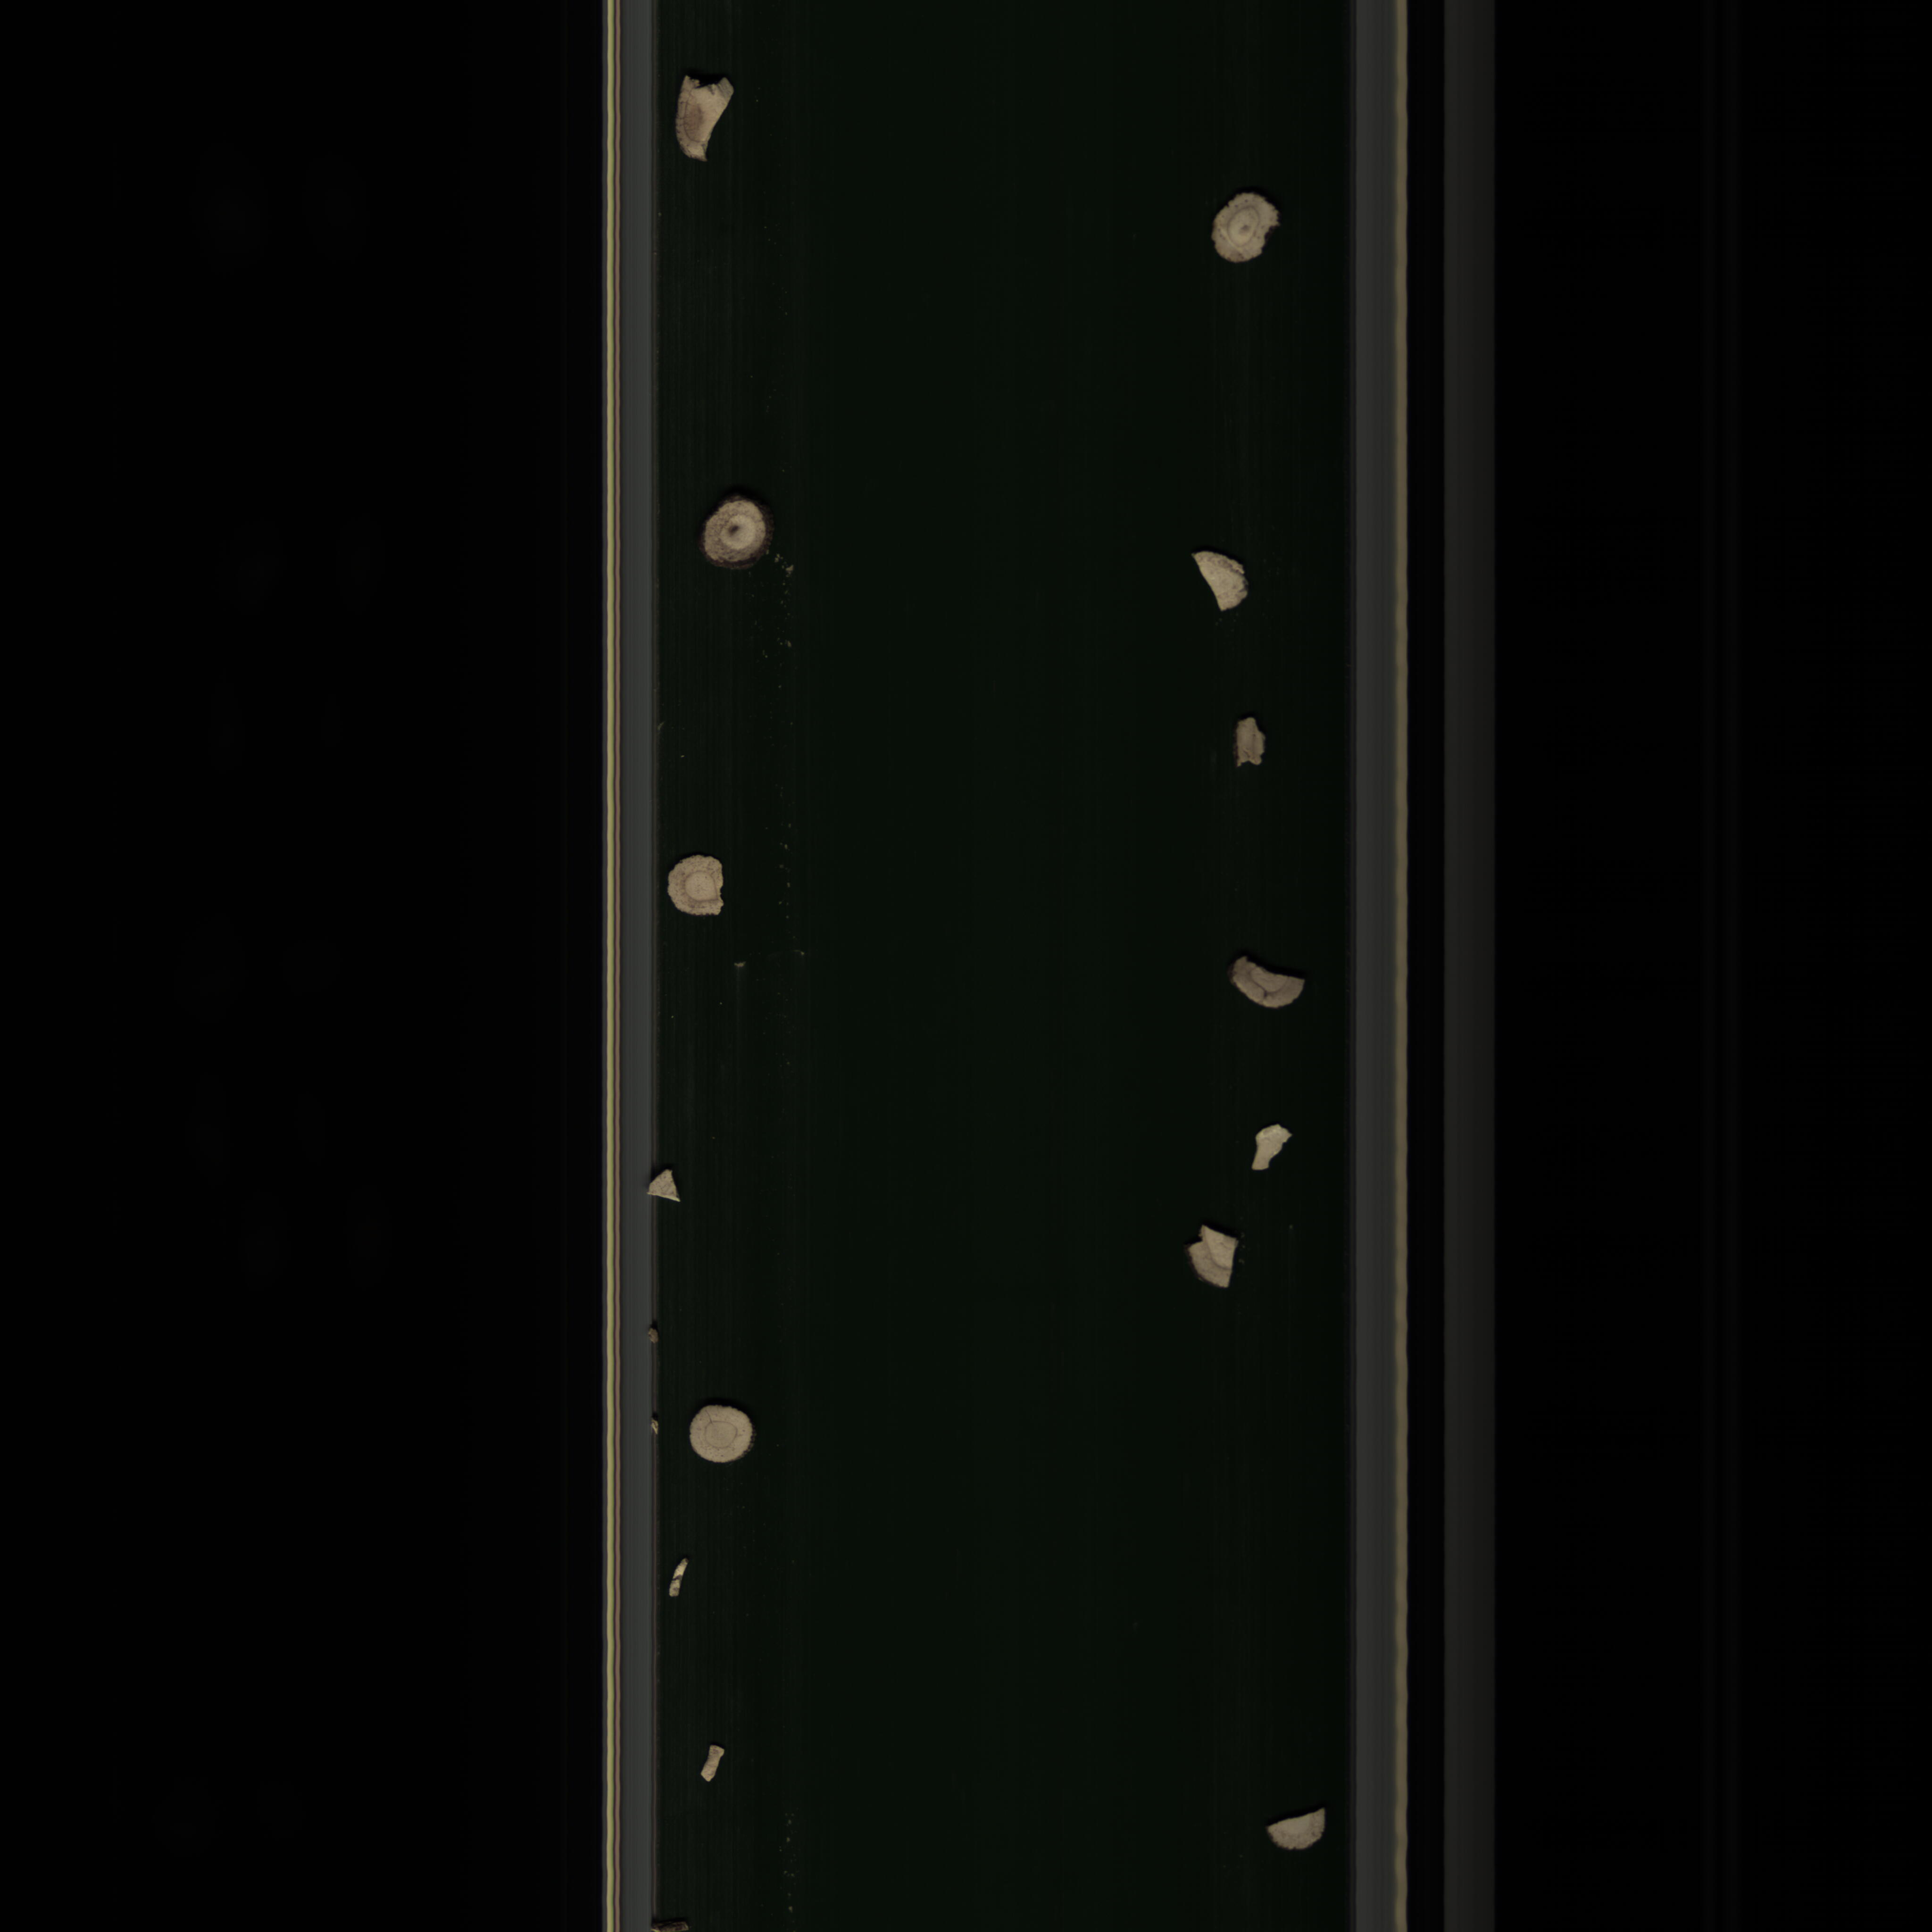debris: (1217, 943, 1313, 1014), (1178, 541, 1261, 621), (672, 65, 732, 170), (1185, 1215, 1256, 1304), (663, 846, 740, 927), (1258, 1803, 1336, 1854), (1223, 708, 1277, 777), (1246, 1118, 1292, 1182), (640, 1166, 692, 1208)
